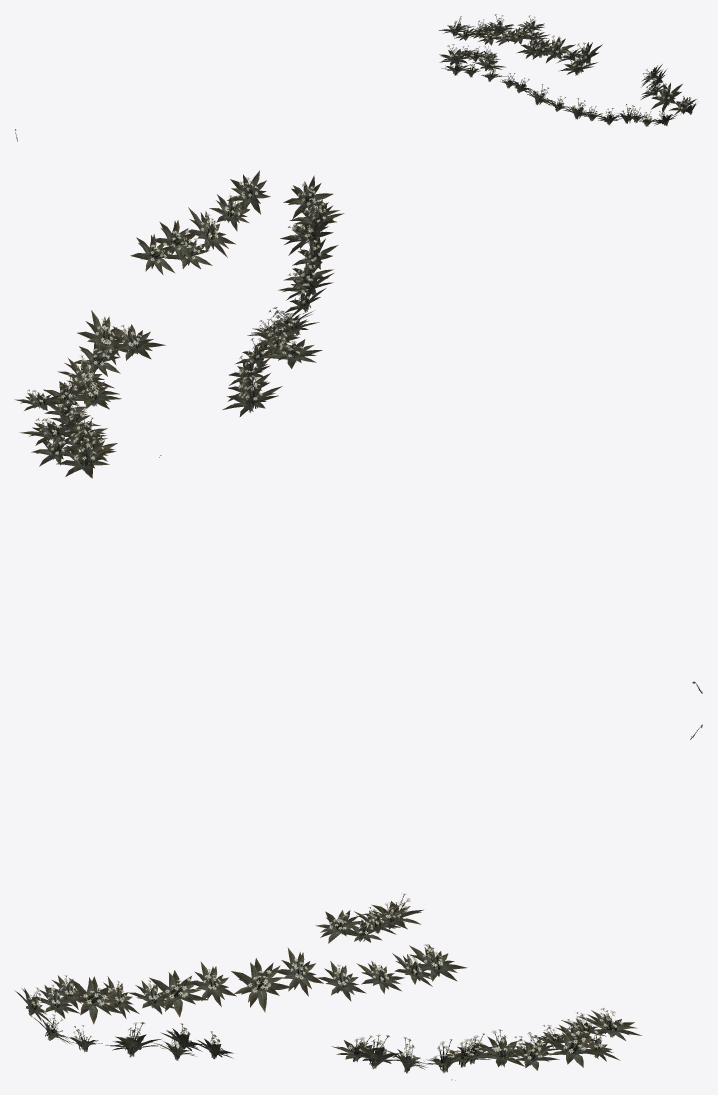
The model's file is grass07.fbx.
The picture shows the model from 3 angles, top to bottom: view 1: azimuth 30°, elevation 25°; view 2: azimuth 150°, elevation 25°; view 3: azimuth 270°, elevation 25°; orthographic projection. The views are drawn at different scales.
Parts seen in each view (by area): view 1: m001213_1; view 2: m001213_1; view 3: m001213_1.
Boxes of the visible parts, left/top/right/bottom form: m001213_1: left=439, top=14, right=696, bottom=126; m001213_1: left=14, top=170, right=344, bottom=478; m001213_1: left=14, top=893, right=641, bottom=1080.
Size of the model in its own units: 179469 by 27454 by 129105.
2 materials, 2 textured.
